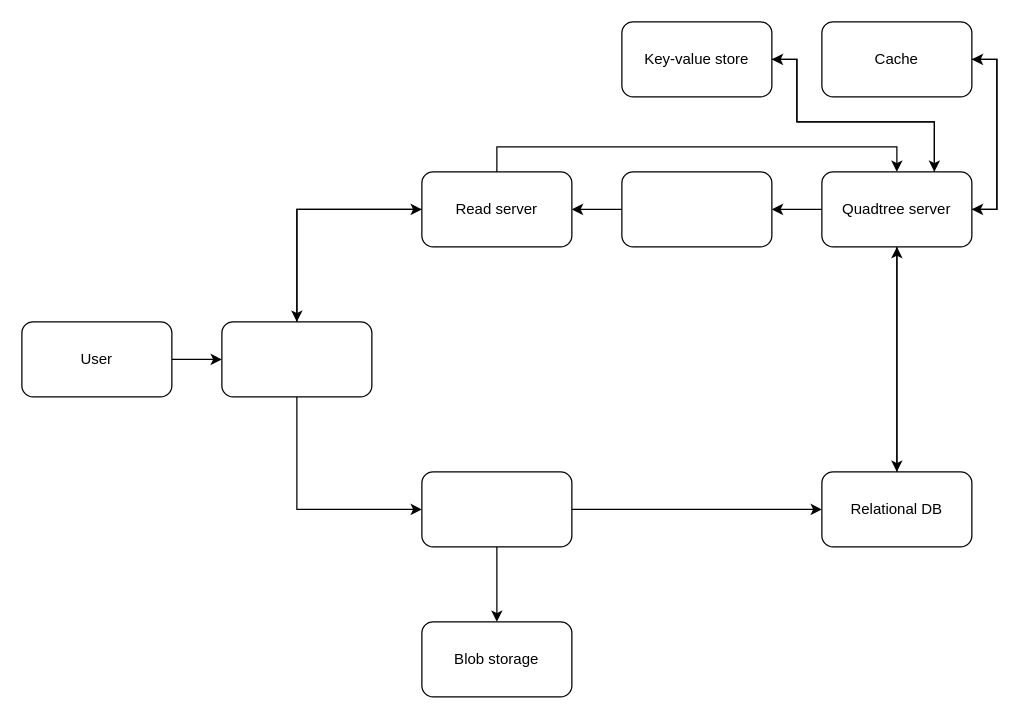
Image size: 1029x719. Some labels were removed from this diagram. The centre of each missing label's shape, as x and y in pixels:
"Aggregator server" belongs at point 696,209.
"Load balancer" belongs at point 296,359.
"Write server" belongs at point 496,509.
